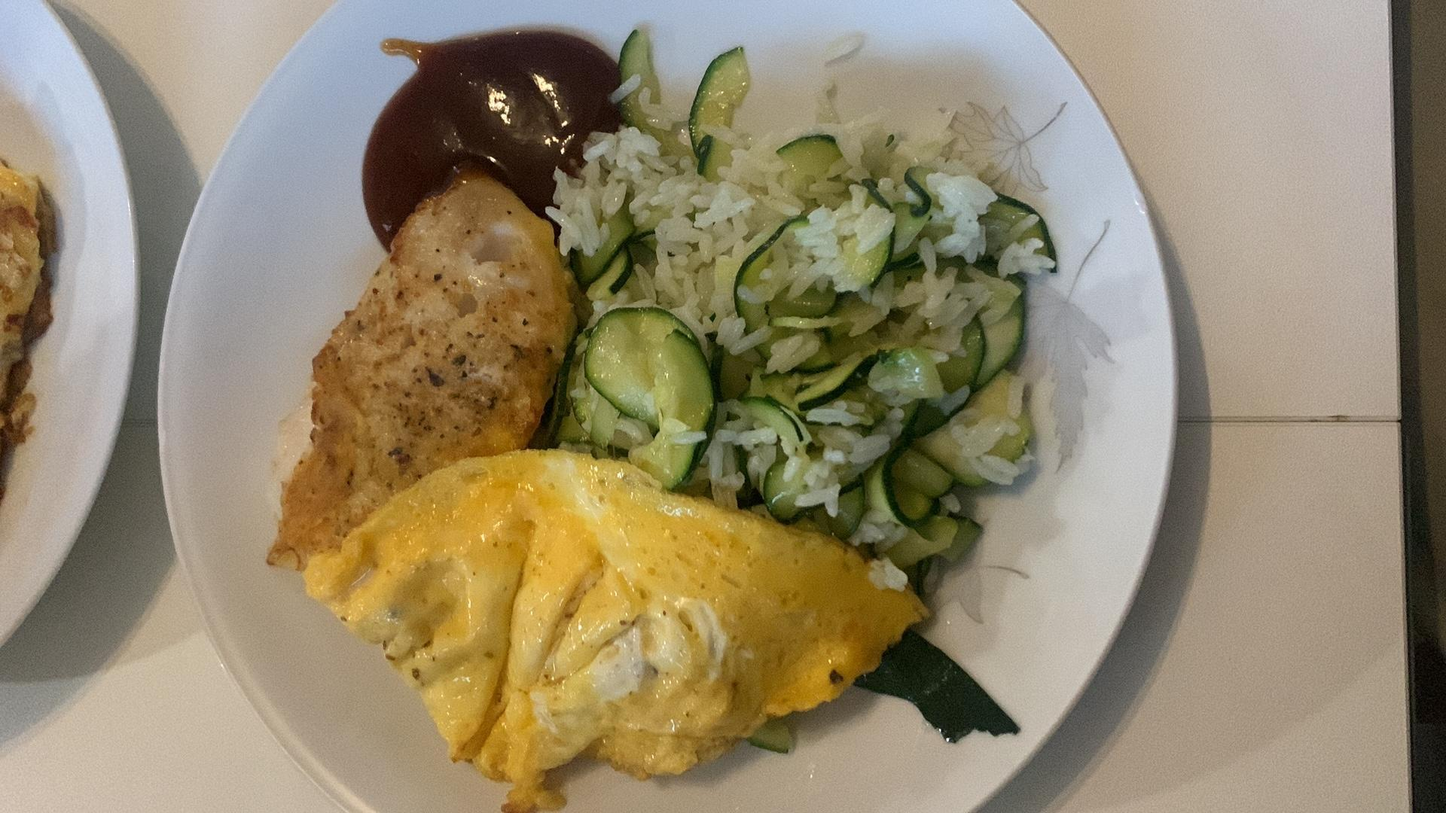cucumber: (581, 303, 717, 477), (723, 190, 856, 349), (869, 266, 1036, 369), (850, 448, 963, 569), (731, 381, 824, 523), (688, 34, 755, 189), (924, 378, 1031, 468), (970, 188, 1061, 276), (780, 120, 867, 186), (619, 33, 671, 132), (797, 351, 888, 406)
